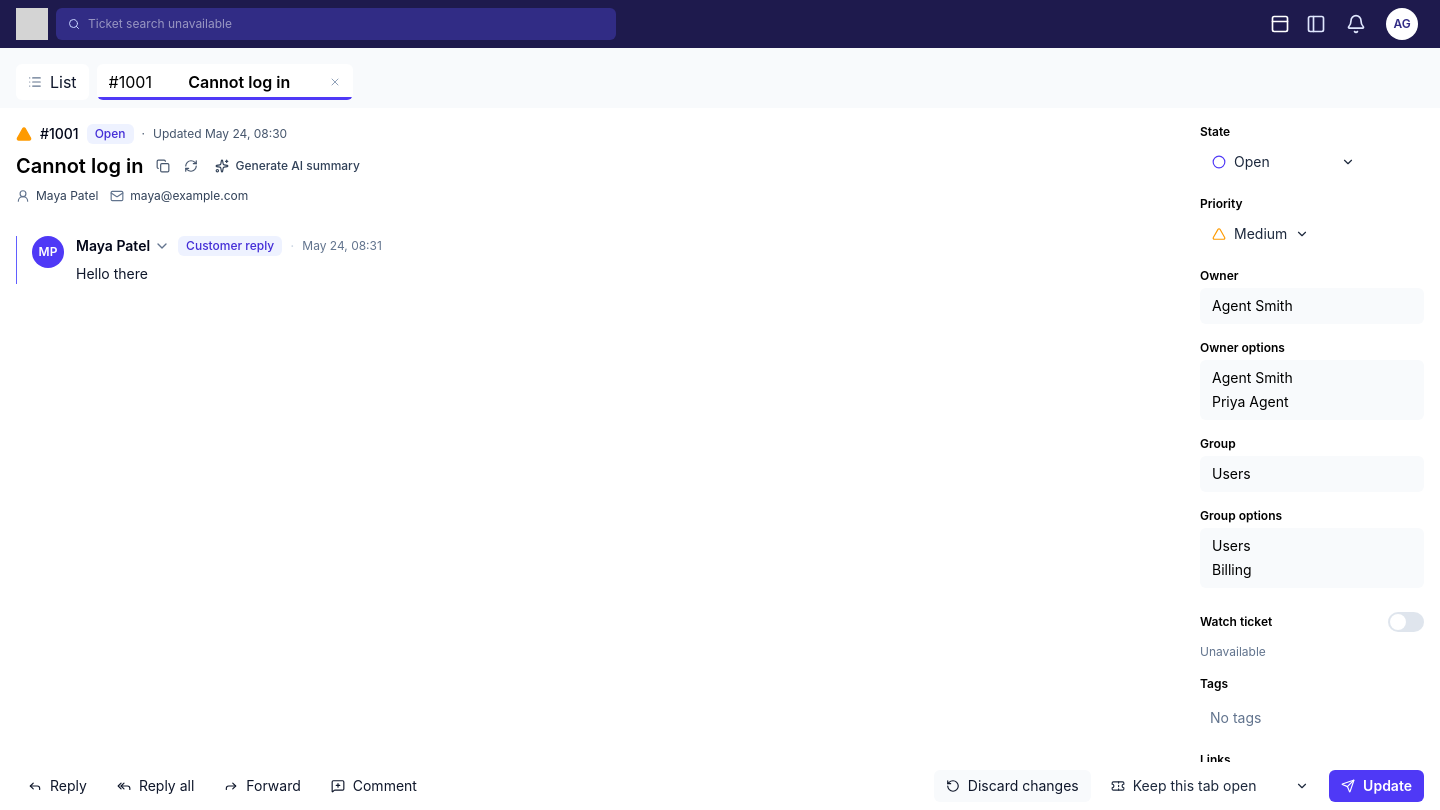
Test case: TicketWorkspace staged metadata updates › keeps staged values while tab orientation controls are available in detail
This screenshot has width=1440, height=810.
Click the dropdown named "Ticket state" at [1284, 162], box [1200,144,1367,180]
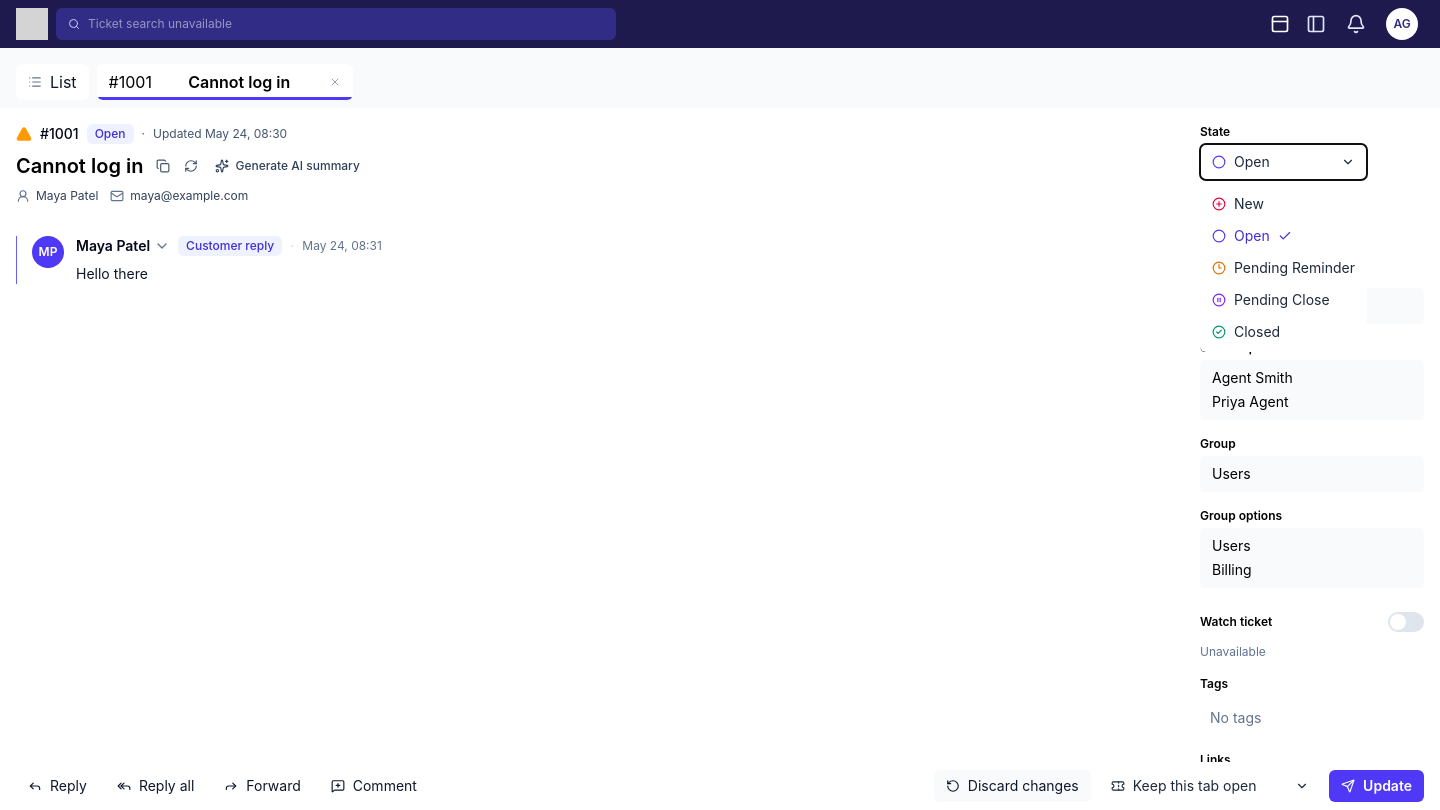
Click the option "Closed" at [1284, 332], box [1204,316,1363,348]
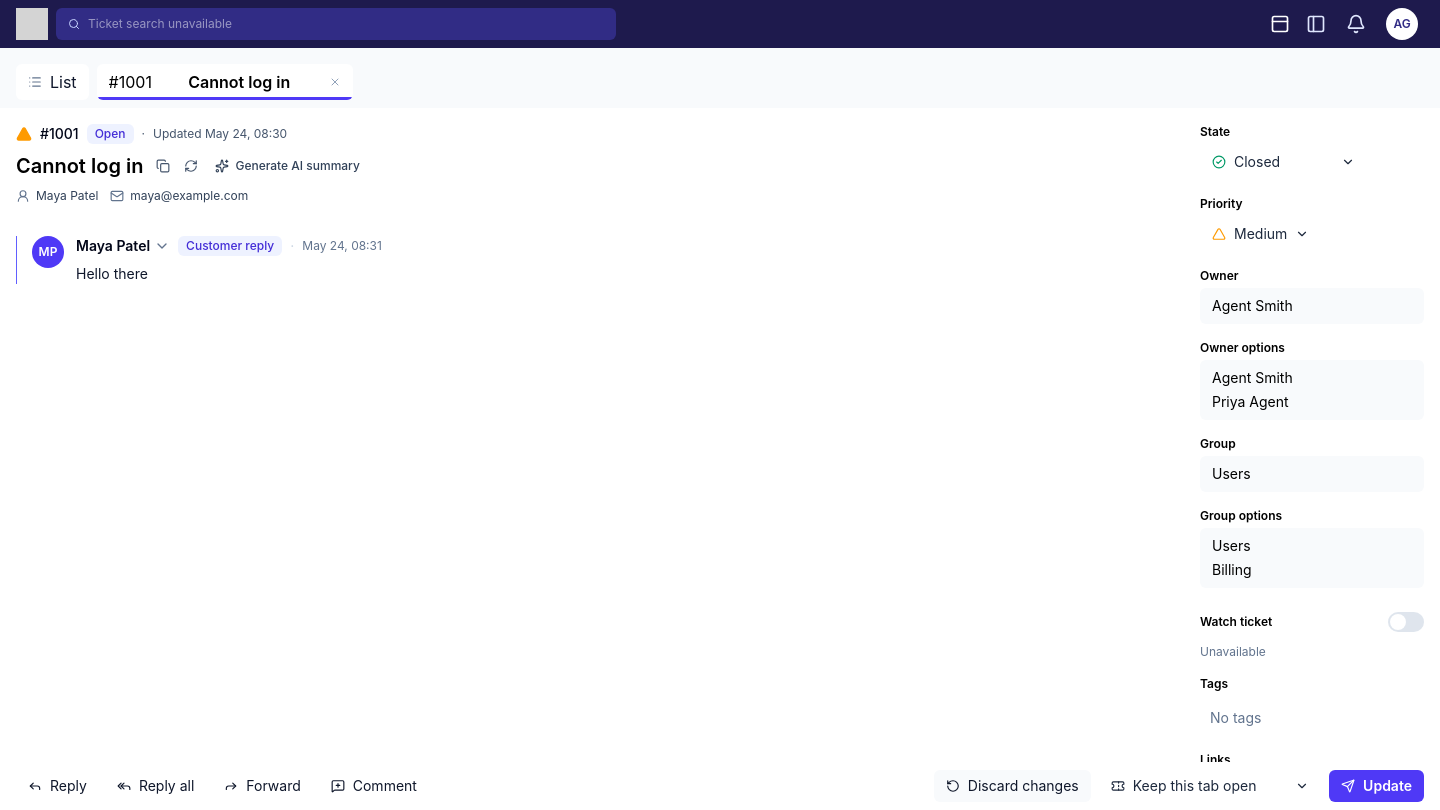
expect the element named "Tab layout" is shown: met, box [1264,8,1332,40]
expect the dropdown named "Ticket state" reads "Closed": met, box [1200,144,1367,180]
